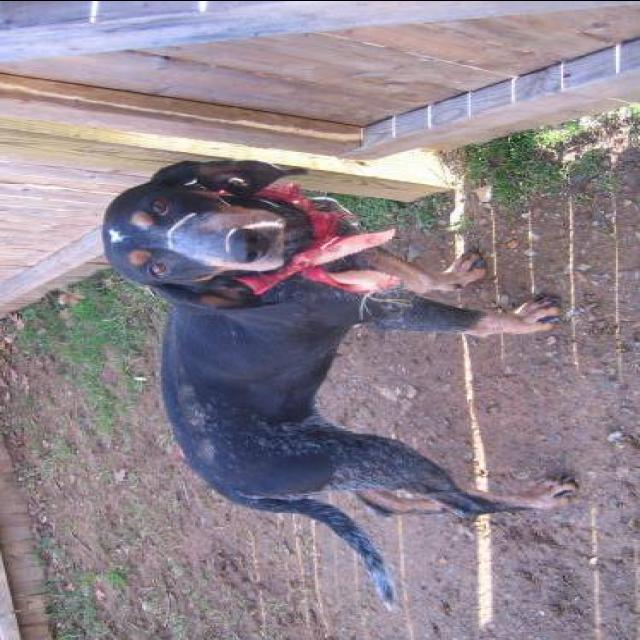dog: (92, 138, 593, 612)
